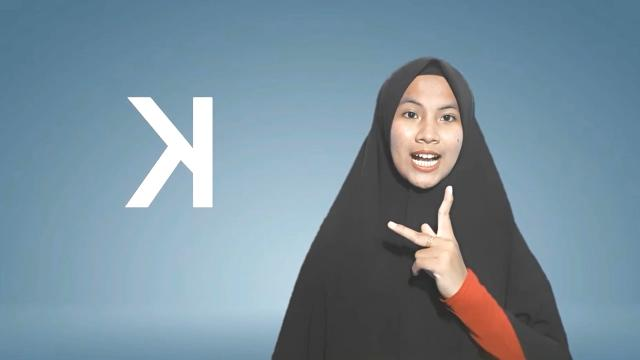K: (386, 187, 462, 292)
